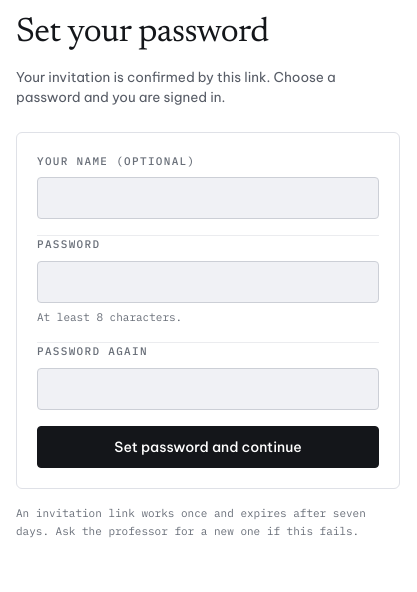
Test case: shows what the API said about a spent or expired token
This screenshot has width=417, height=592.
In the password field labelled "Password": coordinates (208, 282) [37,260,379,302], type "correct horse battery staple"
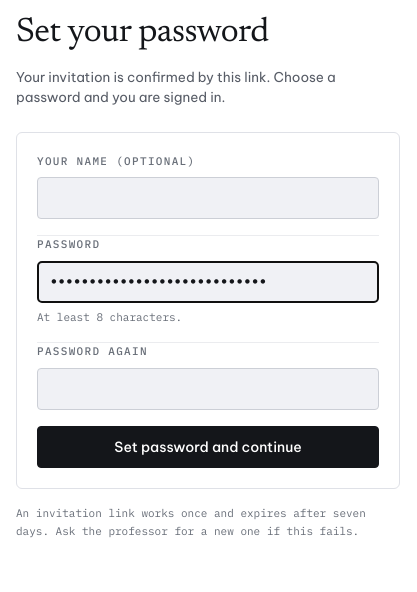
In the password field labelled "Password again": coordinates (208, 389) [37,368,379,410], type "correct horse battery staple"
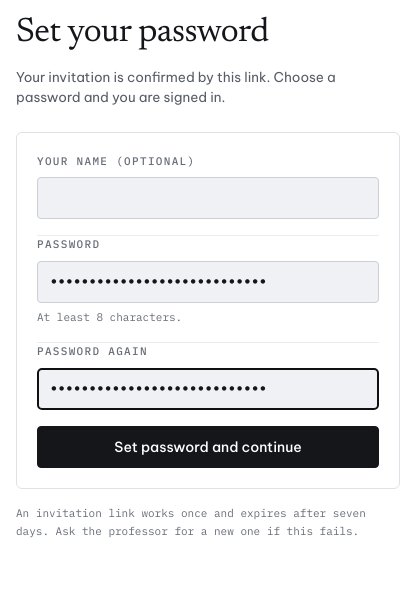
Click the button "Set password and continue": coordinates (208, 447) [37,426,379,468]
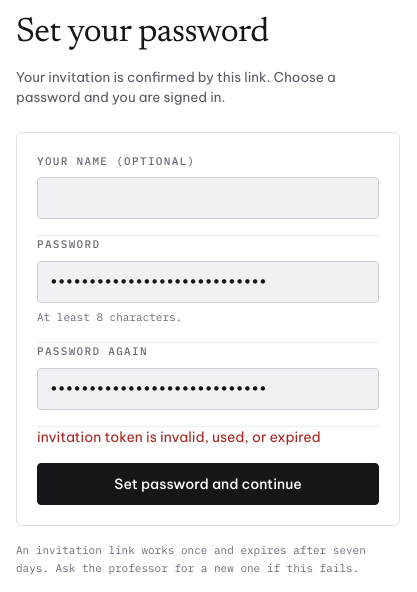
Now the message shows "invalid, used, or expired", box [37,428,321,446]
